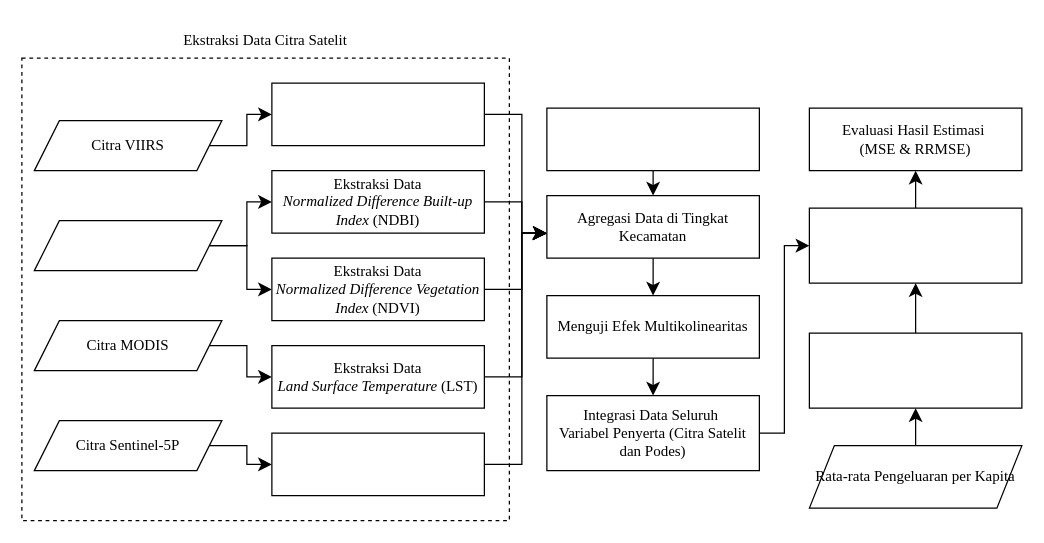
Some shapes in this 1044 by 543 pixel diagram are drawn without their labels. Here are the shapes that lost their labels. From the top down, the centre of each, then its label:
(377,114): Ekstraksi Data Nighttime Light Intensity (NTL)
(652,139): Data Potensi Desa (Listrik, Ekonomi, Pendidikan)
(127,245): Citra Sentinel-2
(915,245): Estimasi tidak langsung menggunakan Model Spasio-Temporal SAE
(915,370): Estimasi Langsung Direct Estimate
(377,464): Ekstraksi Data Karbon Monoksida (CO)
